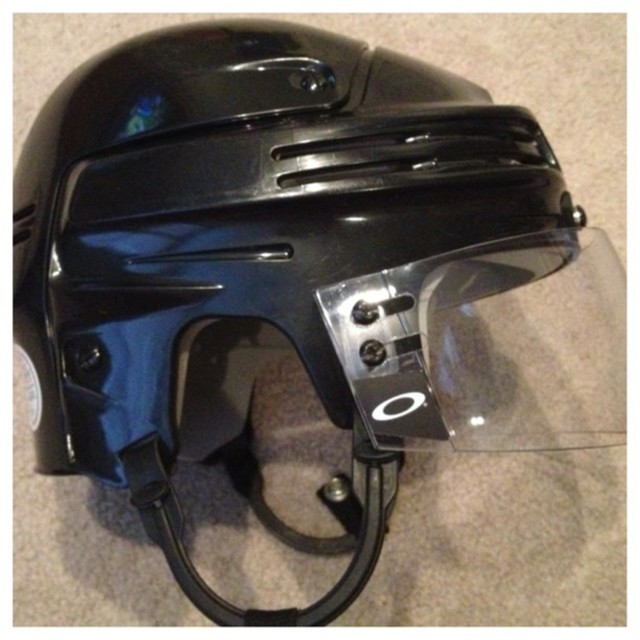helmet: (45, 44, 577, 476)
